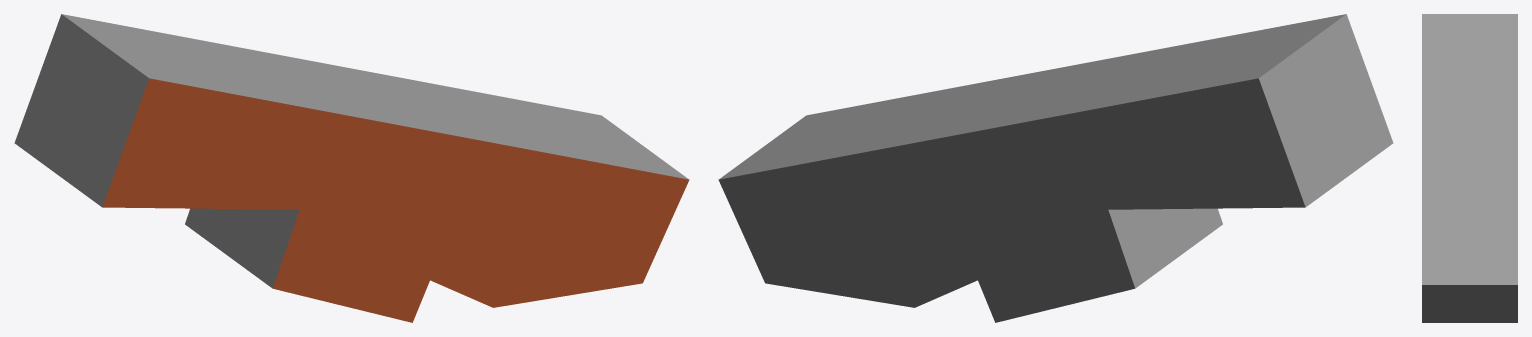
The model's file is construction_5122_assumed_A_Casa_h6m.obj.
3 renders of one model, left to right at view 1: azimuth 30°, elevation 25°; view 2: azimuth 150°, elevation 25°; view 3: azimuth 270°, elevation 25°, orthographic. The views are drawn at different scales.
Parts seen in each view (by area): view 1: construction_5122_assumed_A_Casa; view 2: construction_5122_assumed_A_Casa; view 3: construction_5122_assumed_A_Casa.
Part boxes in pixels (x1,y1,x2,y2): construction_5122_assumed_A_Casa: [14, 14, 689, 322]; construction_5122_assumed_A_Casa: [718, 14, 1393, 322]; construction_5122_assumed_A_Casa: [1422, 14, 1517, 322].
Size of the model in its own units: 23.14 by 12.26 by 6.
